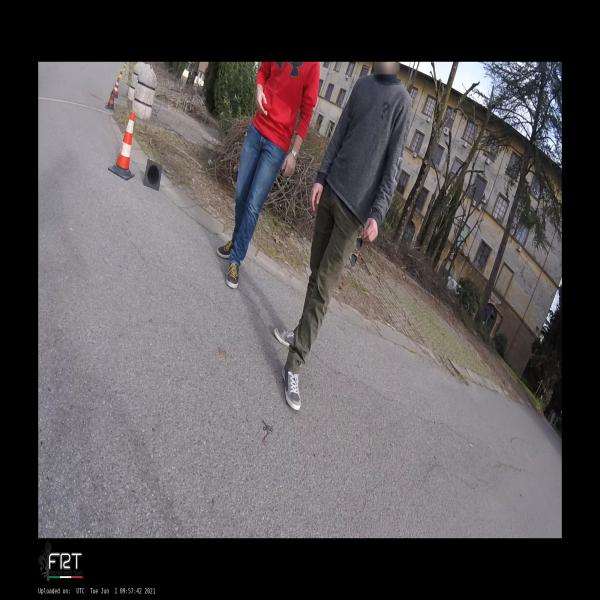large_orange_cone: (108, 112, 135, 180), (111, 78, 119, 99)
unknown_cone: (144, 159, 162, 190), (105, 89, 115, 112)
yellow_cone: (118, 68, 123, 79)
